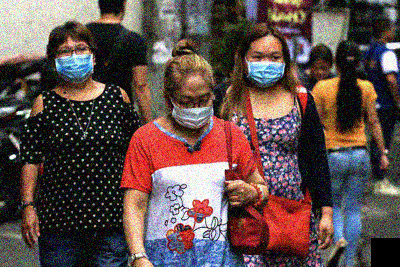with_mask: (169, 90, 214, 130), (243, 47, 285, 87), (53, 42, 93, 84)
without_mask: (311, 64, 331, 81)
